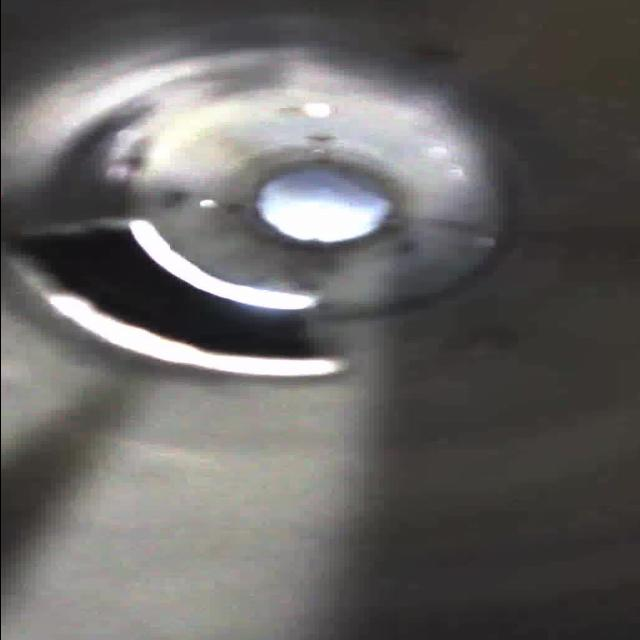hole: (1, 208, 358, 386)
